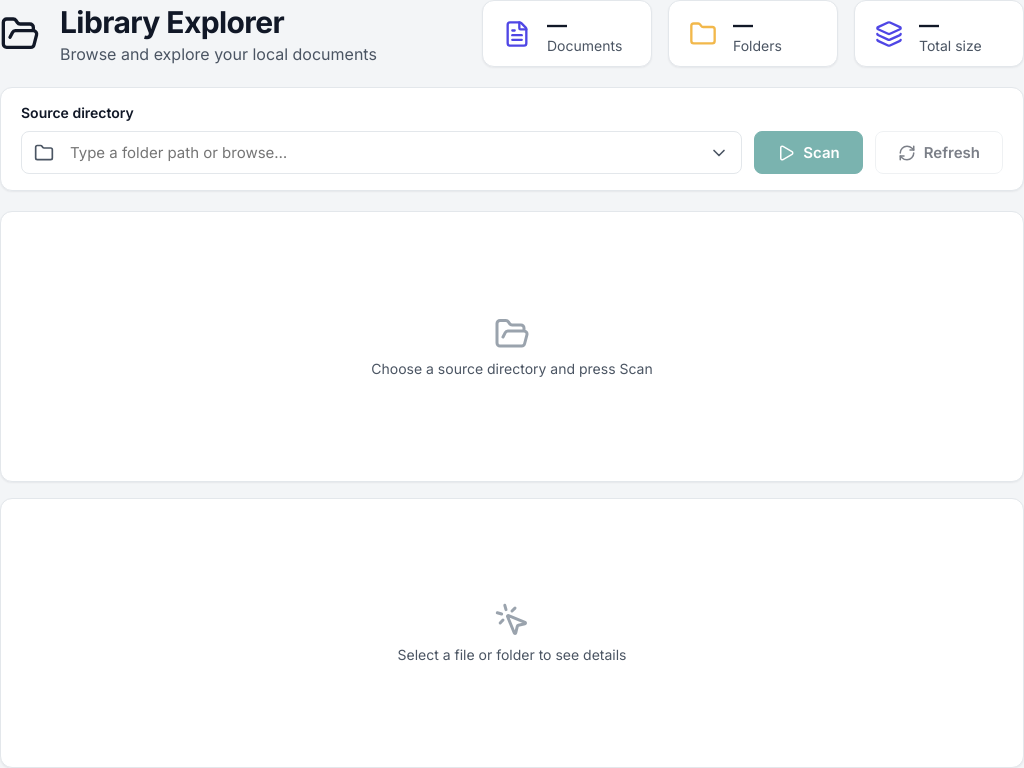
Scenario: LibraryPage folder picker › fills the source directory from the picker without scanning
Click the button named "Browse folders" at (44, 152), box [22, 134, 66, 170]
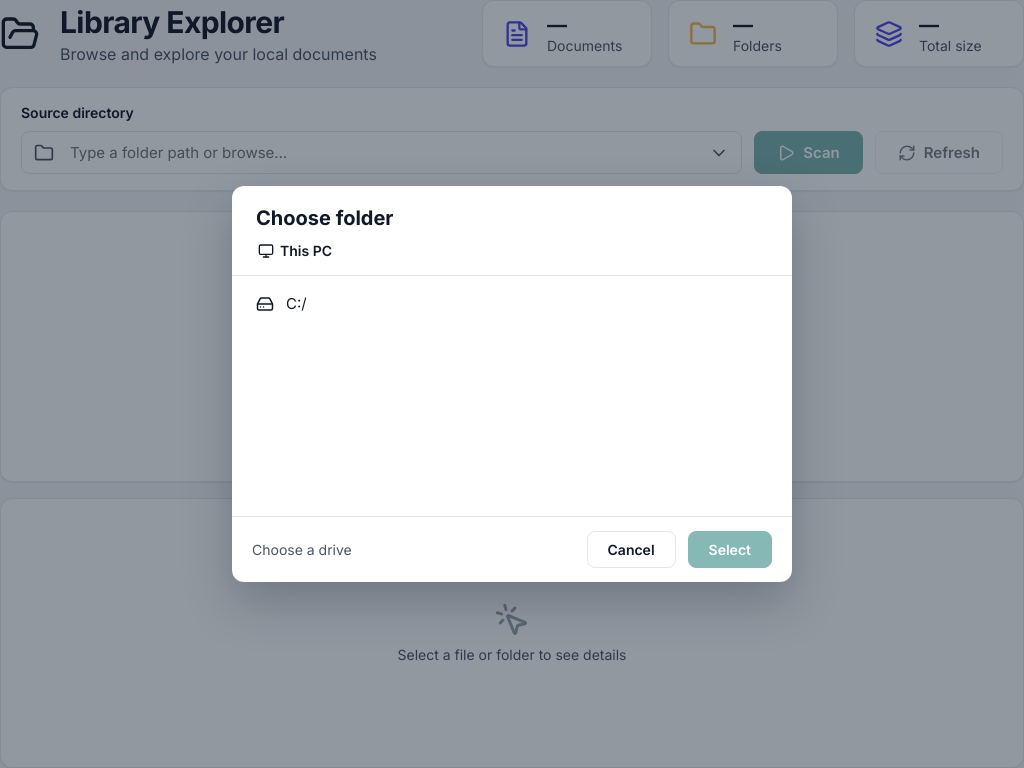
Click the button "C:/" at (265, 304), box [244, 284, 780, 323]
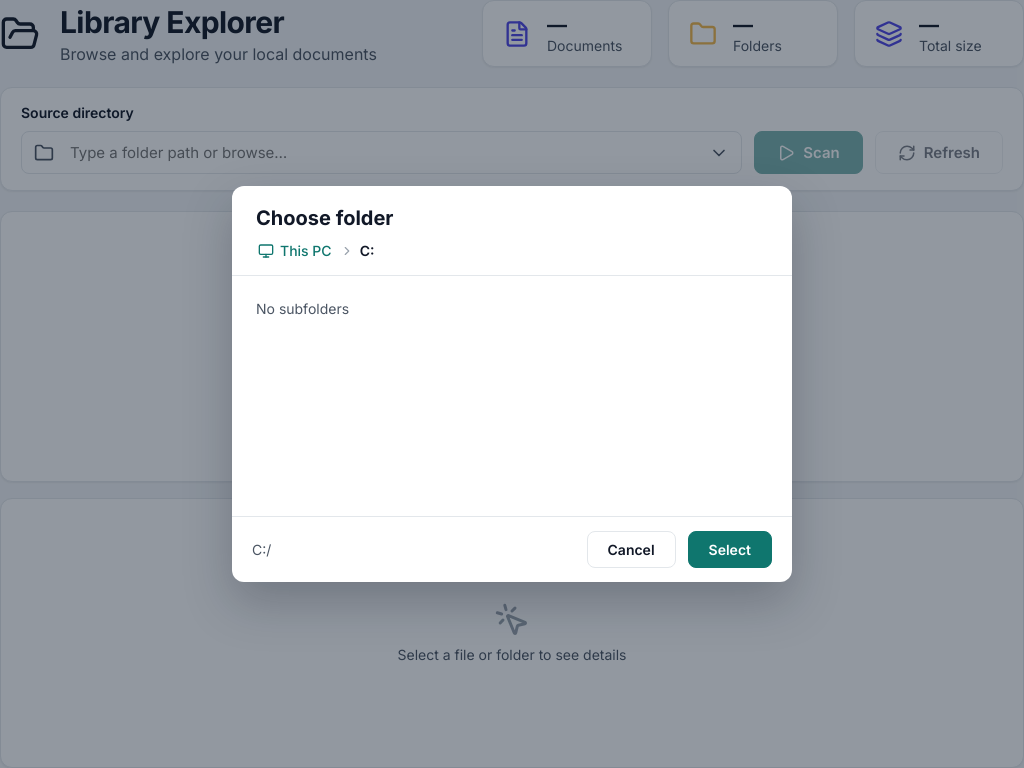
Result: the text "No subfolders" is shown at [256, 300, 349, 317]
Click the button "Select" at (730, 550), box [688, 531, 772, 568]
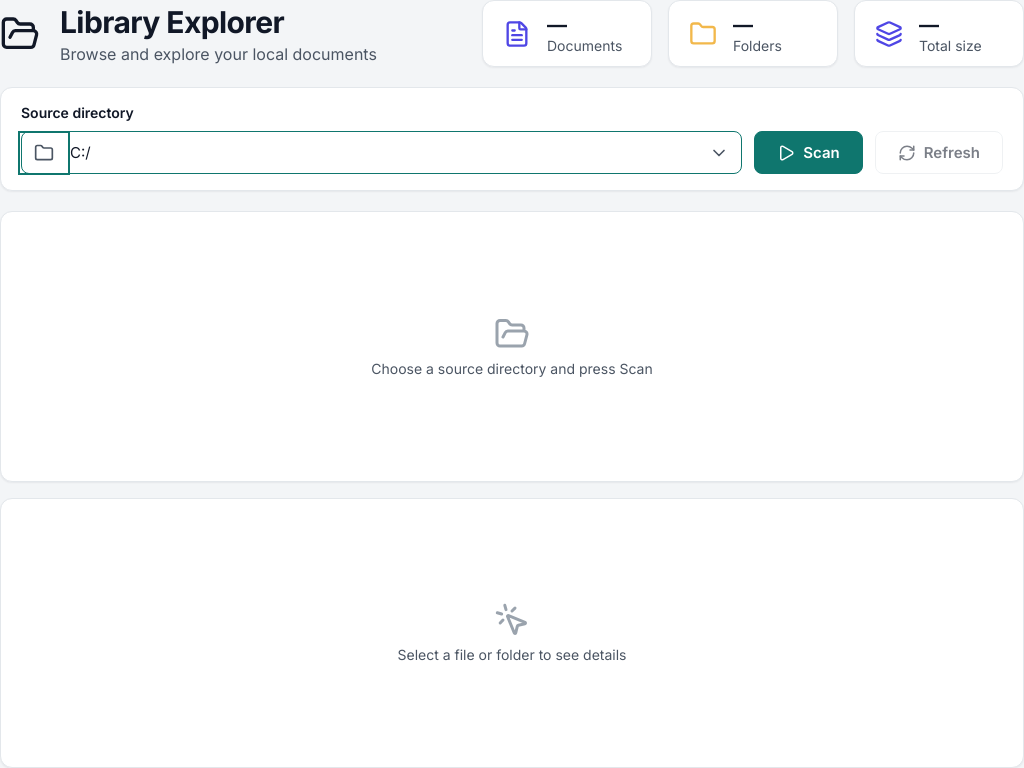
Result: the dialog is gone
Result: the field labelled "Source directory" holds "C:/" at [66, 132, 697, 173]
